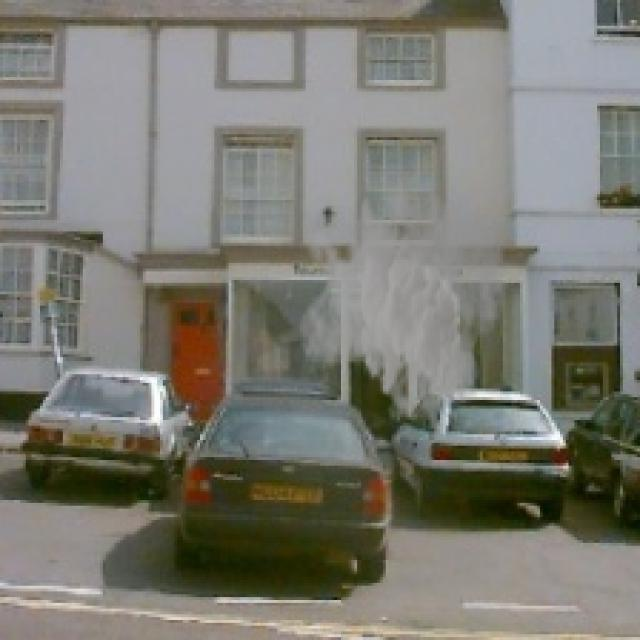Smoke: (297, 157, 509, 434)
